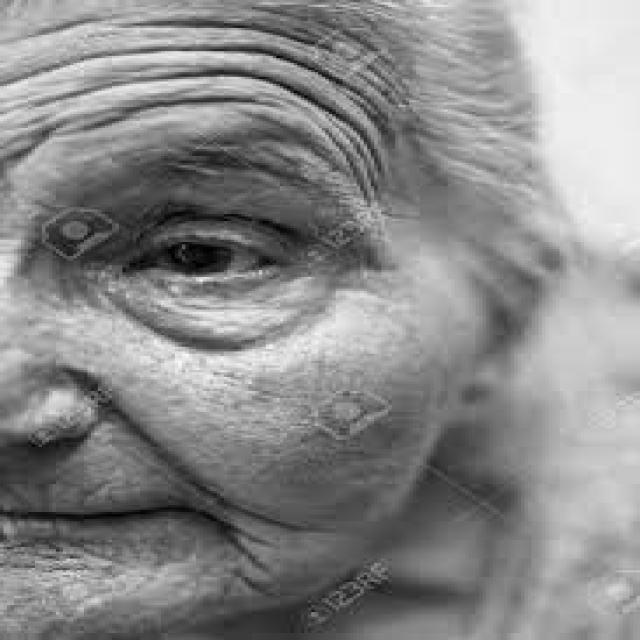Wrinkles: (1, 65, 388, 201), (4, 11, 416, 109), (5, 44, 396, 146), (11, 94, 354, 179), (208, 511, 297, 603)
